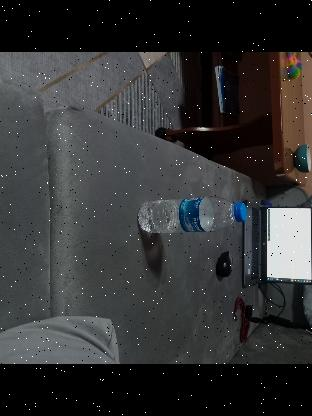Plastic Bottle: (134, 195, 248, 243)
